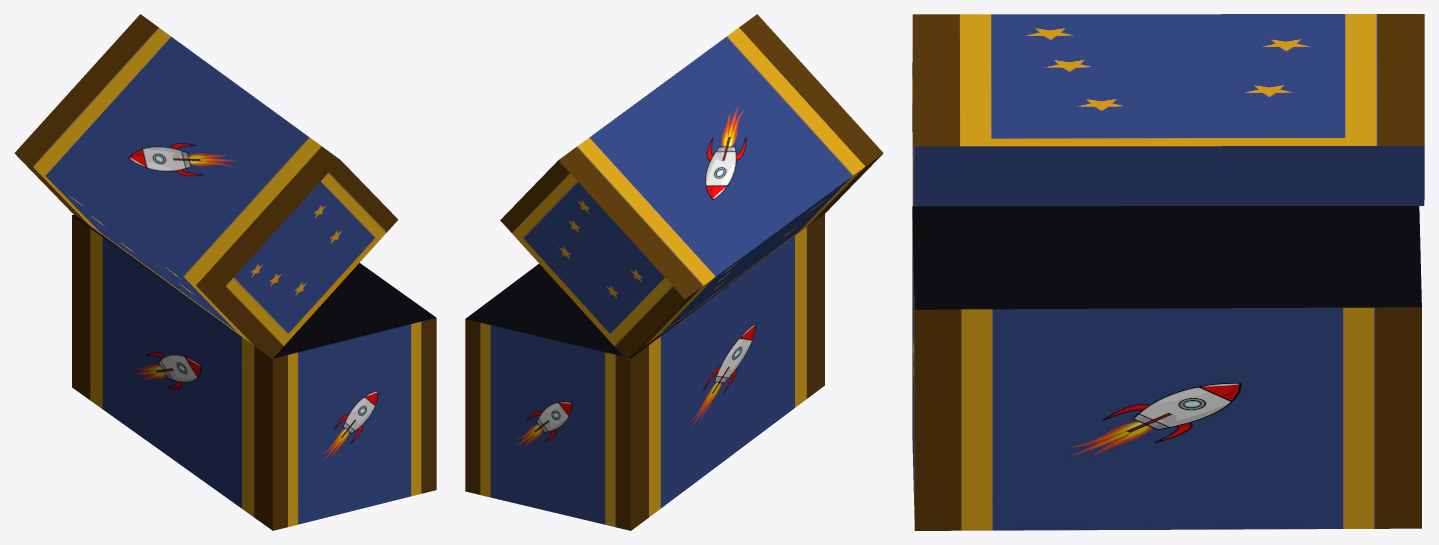
Rendered from cofre.obj.
3 renders of one model, left to right at view 1: azimuth 30°, elevation 25°; view 2: azimuth 150°, elevation 25°; view 3: azimuth 270°, elevation 25°, orthographic. The views are drawn at different scales.
Parts seen in each view (by area): view 1: pCube3; view 2: pCube3; view 3: pCube3.
Boxes of the visible parts, x1,y1,x2,y2 form: pCube3: [14, 14, 436, 530]; pCube3: [465, 14, 883, 530]; pCube3: [912, 14, 1424, 530].
Size of the model in its own units: 2.44 by 3.69 by 3.76.
Materials: 7 (6 with a texture image).
